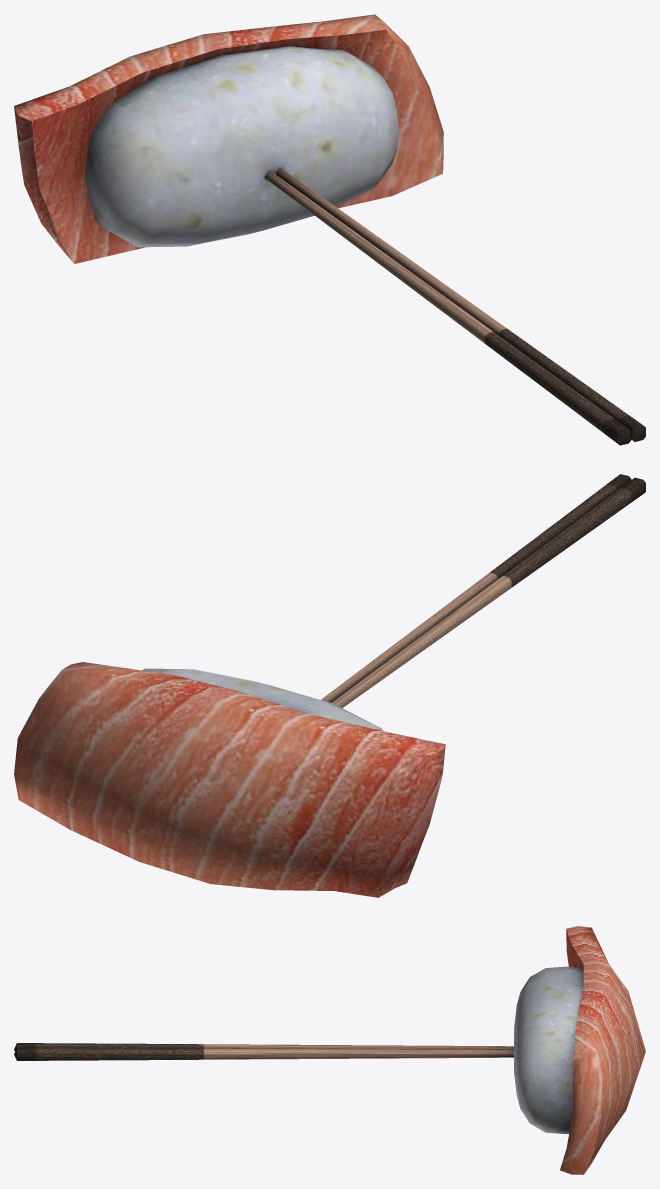
File: wand_osushi_wand1_osushi_wand1.glb
3 views of the same model, one above another, from view 1: azimuth 30°, elevation 25°; view 2: azimuth 150°, elevation 25°; view 3: azimuth 270°, elevation 25° (orthographic). The views are drawn at different scales.
Bounding box in the file's own units: 0.9607 × 0.4193 × 1.78.
1 material, 1 textured.
